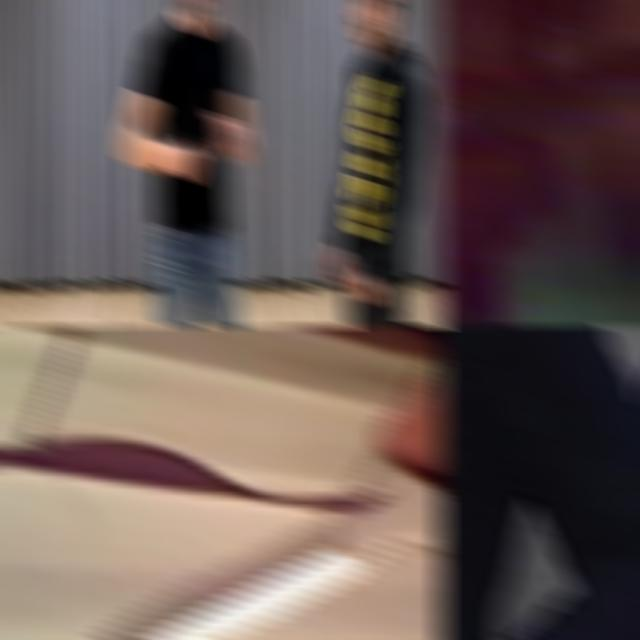Knife_Handle: (54, 324, 446, 640), (436, 0, 640, 160), (167, 89, 217, 184)
